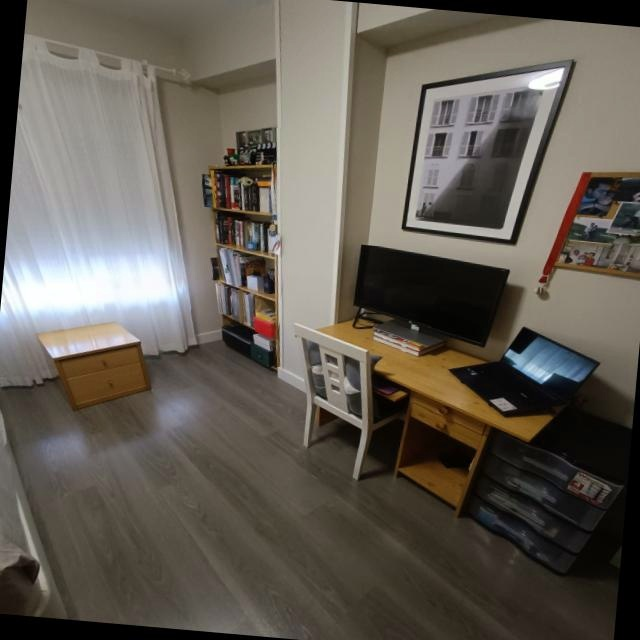bookshelf: (202, 128, 283, 368)
chair: (293, 323, 406, 481)
laptop: (448, 327, 600, 417)
monitor: (354, 245, 509, 339)
nighttable: (38, 323, 149, 409)
stove: (318, 320, 553, 515)
